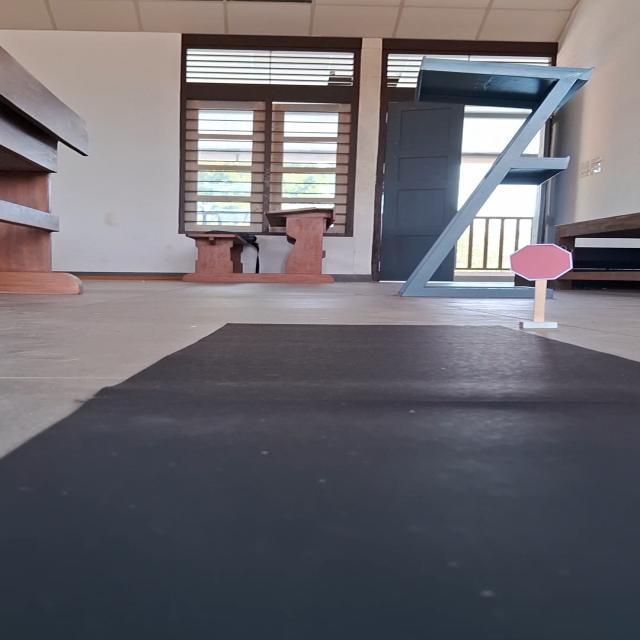Stop: (508, 243, 575, 281)
